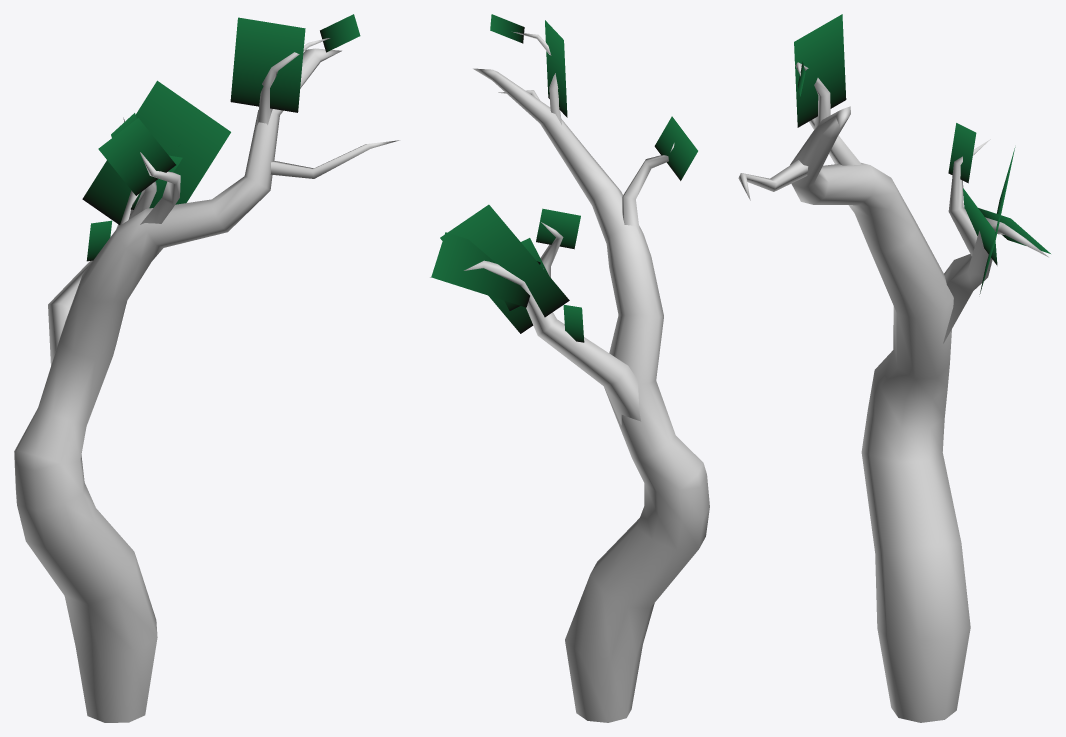
The model's file is SM_TreeWindsweptSaplingB01.fbx.
3 renders of one model, left to right at view 1: azimuth 30°, elevation 25°; view 2: azimuth 150°, elevation 25°; view 3: azimuth 270°, elevation 25°, orthographic. The views are drawn at different scales.
Visible parts, largest first — view 1: SM_TreeWindsweptSaplingB01_LOD0; view 2: SM_TreeWindsweptSaplingB01_LOD0; view 3: SM_TreeWindsweptSaplingB01_LOD0.
Boxes of the visible parts, x1,y1,x2,y2 form: SM_TreeWindsweptSaplingB01_LOD0: [14, 14, 399, 722]; SM_TreeWindsweptSaplingB01_LOD0: [430, 14, 709, 722]; SM_TreeWindsweptSaplingB01_LOD0: [738, 14, 1050, 722].
Bounding box in the file's own units: 199 × 433 × 167.
